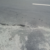zebra: (1, 1, 50, 35)
